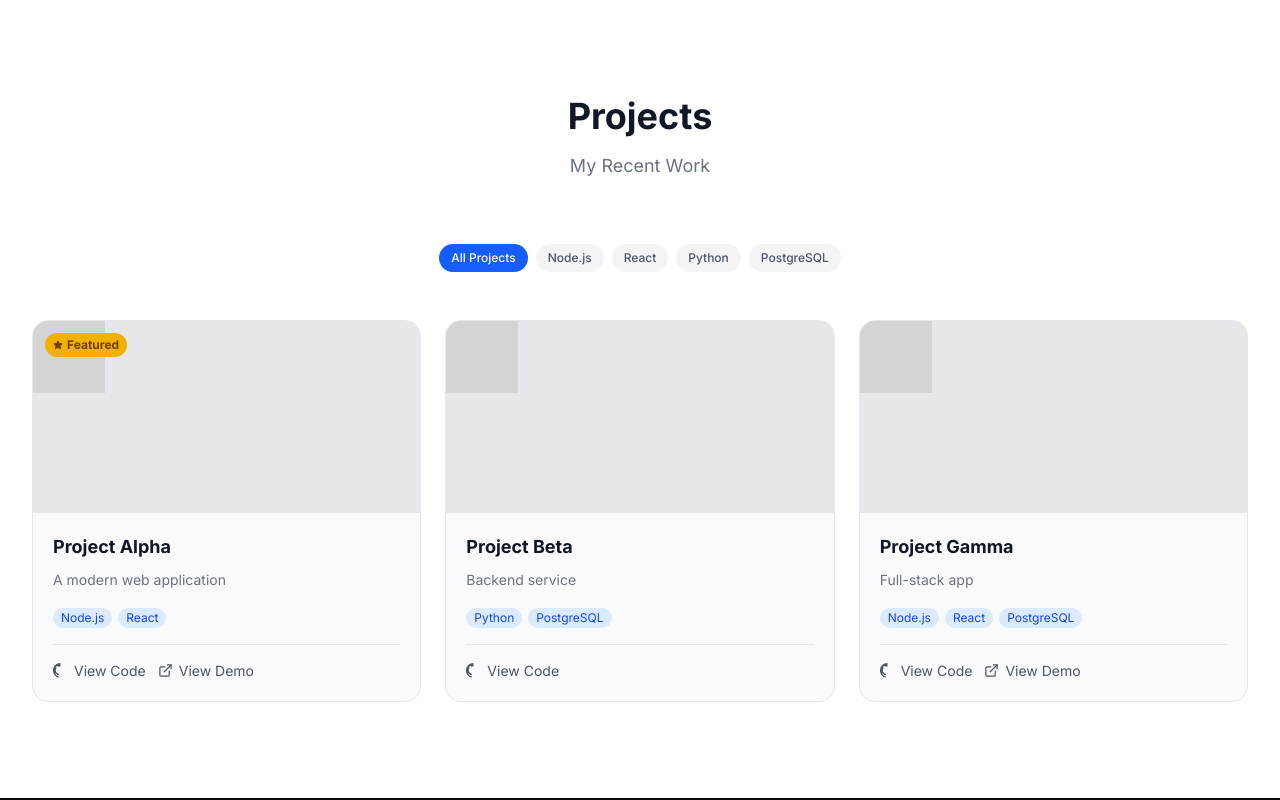
ProjectsSection › multiple project selection works correctly
Click the button "PostgreSQL".
click(795, 258)  # box top-left (749, 244), bottom-right (841, 272)
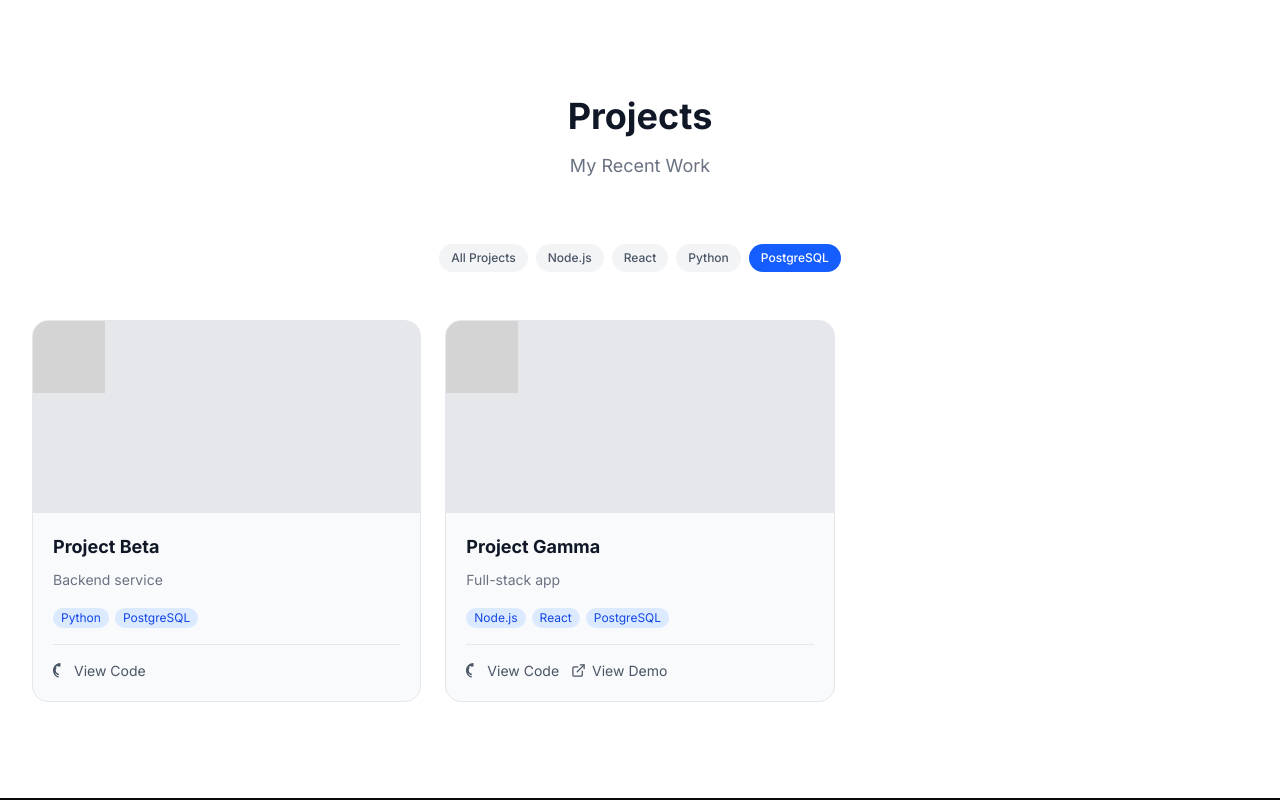
Expected: the heading "Project Beta" is shown, top-left (53, 536), bottom-right (159, 557)
Expected: the heading "Project Alpha" is gone
